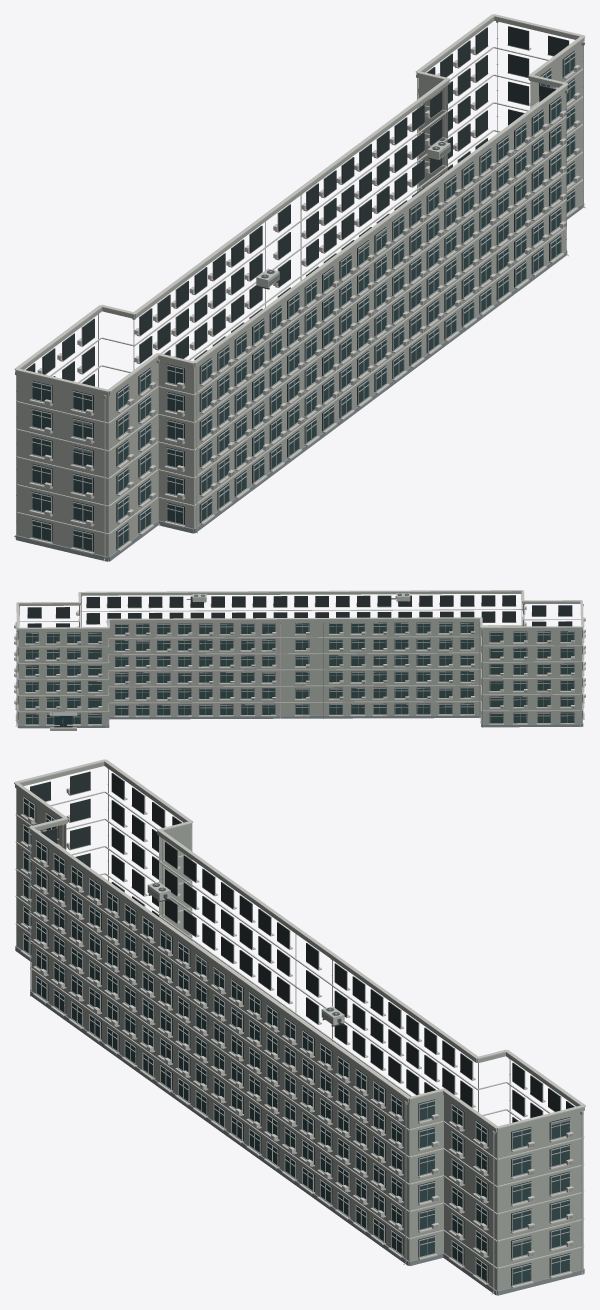
Rendered from osm_way_225198913.glb.
3 views of the same model, one above another, from view 1: azimuth 30°, elevation 25°; view 2: azimuth 150°, elevation 25°; view 3: azimuth 270°, elevation 25° (orthographic). The views are drawn at different scales.
Parts seen in each view (by area): view 1: Windows and facade details | 27, Architecture | 27, Roof services | 27, EXTERIOR::osm_way_225198913::rainwater and roof service deta; view 2: Architecture | 27, Windows and facade details | 27, Roof services | 27, EXTERIOR::osm_way_225198913::rainwater and roof service deta, EXTERIOR::osm_way_225198913::inferred entry doors canopy and; view 3: Windows and facade details | 27, Architecture | 27, Roof services | 27, EXTERIOR::osm_way_225198913::rainwater and roof service deta.
Part boxes in pixels (box(x1,y1,x2,y2)): Windows and facade details | 27: box(25, 26, 580, 554); Architecture | 27: box(15, 17, 584, 561); Roof services | 27: box(14, 14, 585, 392); EXTERIOR::osm_way_225198913::rainwater and roof service deta: box(14, 21, 585, 561); Architecture | 27: box(17, 591, 583, 728); Windows and facade details | 27: box(14, 594, 585, 727); Roof services | 27: box(16, 590, 583, 629); EXTERIOR::osm_way_225198913::rainwater and roof service deta: box(15, 593, 583, 727); EXTERIOR::osm_way_225198913::inferred entry doors canopy and: box(49, 710, 77, 730); Windows and facade details | 27: box(20, 771, 575, 1288); Architecture | 27: box(15, 762, 584, 1295); Roof services | 27: box(14, 759, 585, 1129); EXTERIOR::osm_way_225198913::rainwater and roof service deta: box(62, 768, 583, 1294).
Bounding box in the file's own units: 93.1 × 20.58 × 60.96.
